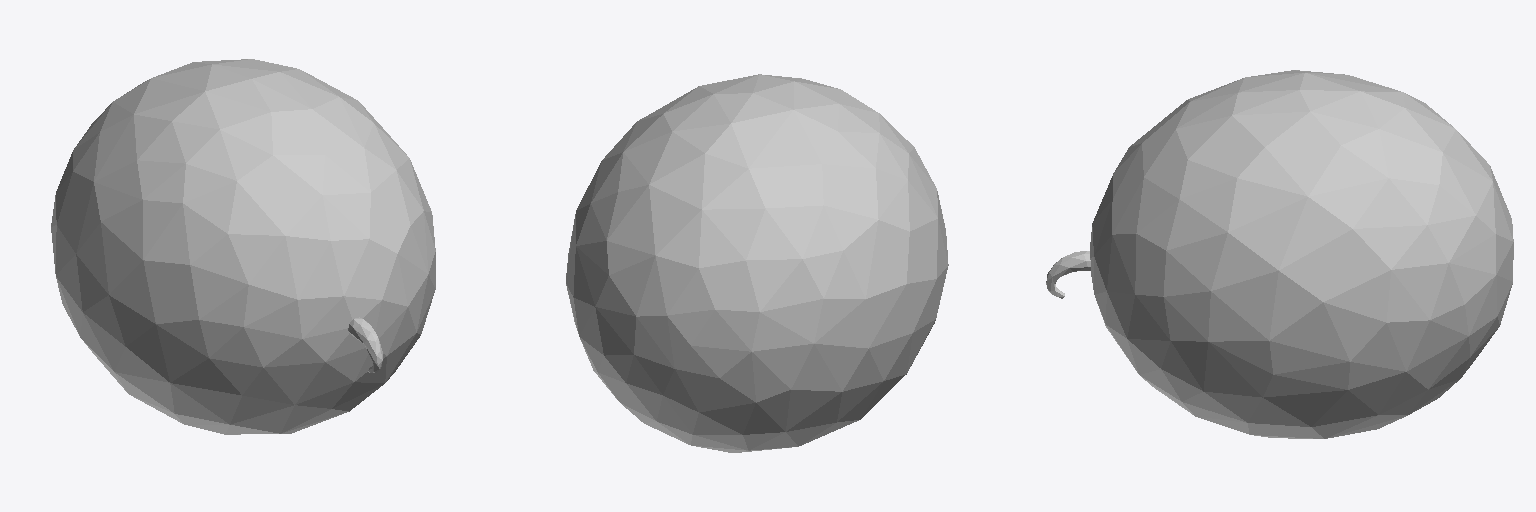
File: Watermellon.mtl.obj
3 renders of one model, left to right at view 1: azimuth 30°, elevation 25°; view 2: azimuth 150°, elevation 25°; view 3: azimuth 270°, elevation 25°, orthographic.
Parts seen in each view (by area): view 1: Sphere_Sphere.014; view 2: Sphere_Sphere.014; view 3: Sphere_Sphere.014.
Boxes of the visible parts, x1=… form: Sphere_Sphere.014: x1=51, y1=59, x2=435, y2=434; Sphere_Sphere.014: x1=566, y1=74, x2=948, y2=452; Sphere_Sphere.014: x1=1046, y1=70, x2=1513, y2=438.
Bounding box in the file's own units: 1.43 × 1.45 × 1.82.